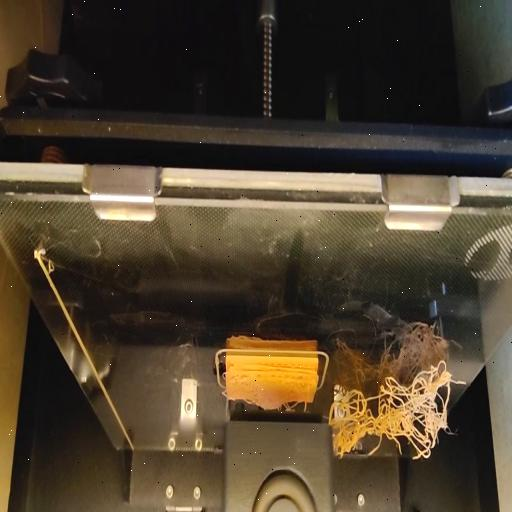spaghetti: (332, 359, 456, 475)
